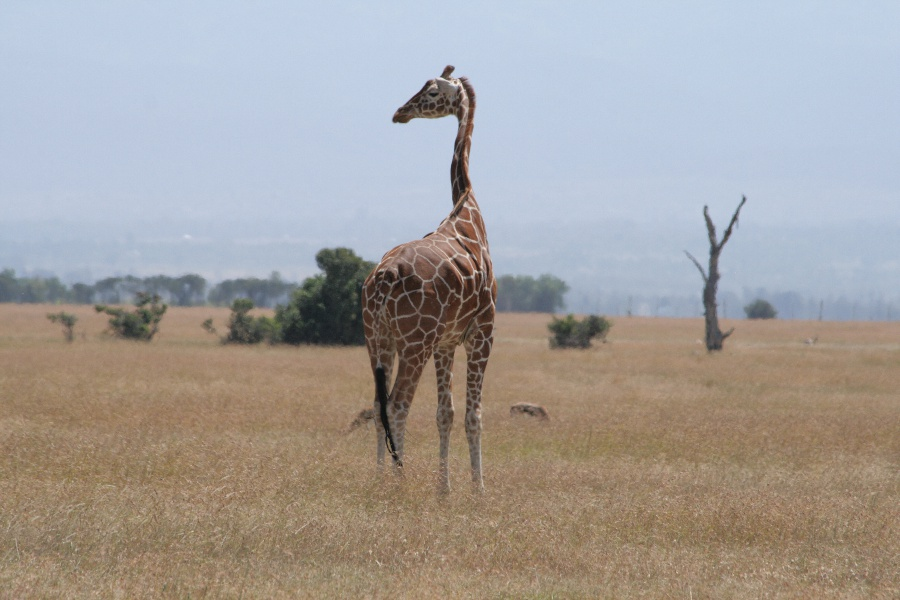giraffe: (352, 59, 504, 510)
